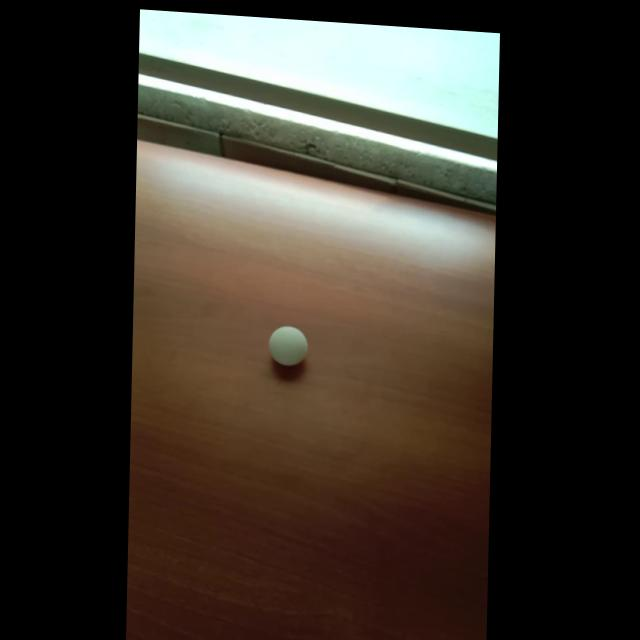white ball: (267, 323, 308, 368)
